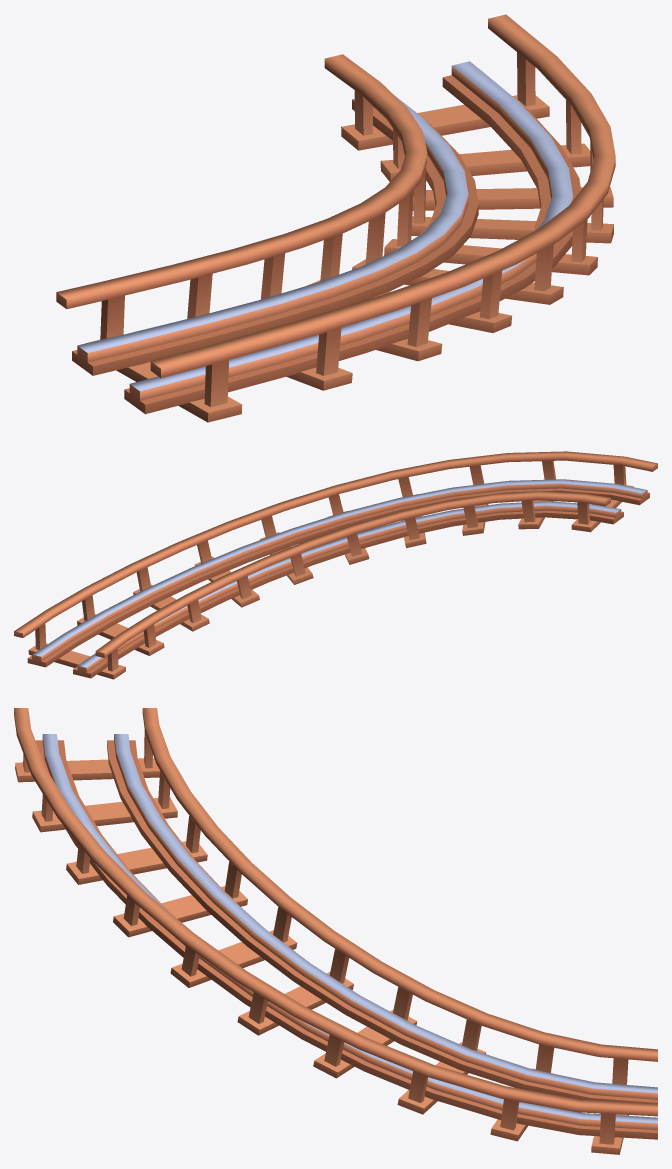
Rendered from coaster-wood-corner-large-ramp.glb.
The picture shows the model from 3 angles, top to bottom: view 1: azimuth 30°, elevation 25°; view 2: azimuth 150°, elevation 25°; view 3: azimuth 270°, elevation 25°; orthographic projection. The views are drawn at different scales.
Parts seen in each view (by area): view 1: coaster-wood-corner-large-ramp; view 2: coaster-wood-corner-large-ramp; view 3: coaster-wood-corner-large-ramp.
Part boxes in pixels (x1,y1,x2,y2): coaster-wood-corner-large-ramp: (56,14,615,422); coaster-wood-corner-large-ramp: (14,451,657,679); coaster-wood-corner-large-ramp: (14,708,657,1154).
Bounding box in the file's own units: 4.5 × 1.35 × 4.5.
Materials: 1 (1 with a texture image).
